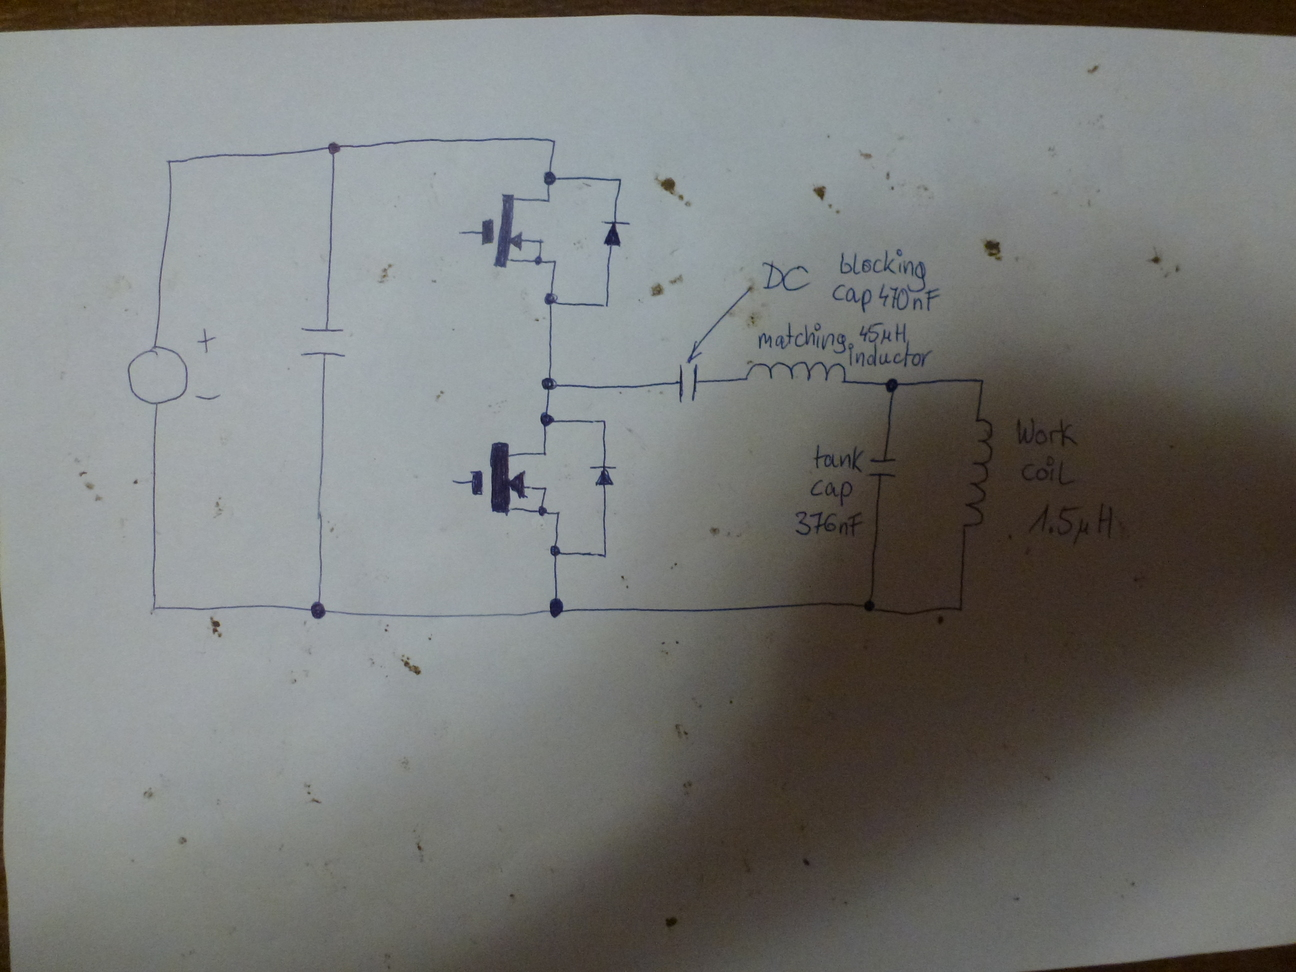capacitor.unpolarized: (295, 323, 349, 364), (676, 356, 702, 404), (862, 450, 902, 482)
diode: (599, 218, 628, 250), (590, 461, 619, 489)
inductor: (963, 410, 994, 537), (741, 358, 848, 385)
junction: (545, 596, 567, 621), (881, 374, 901, 397), (308, 599, 330, 621), (539, 374, 558, 393), (325, 139, 344, 157), (537, 409, 555, 429), (542, 290, 559, 310), (146, 599, 164, 618), (860, 596, 878, 614), (541, 169, 557, 188), (547, 542, 563, 558), (596, 414, 612, 427), (162, 155, 177, 169), (598, 547, 611, 561), (599, 298, 612, 311), (975, 374, 988, 387), (547, 135, 559, 147), (953, 602, 966, 614), (613, 174, 625, 185)
terminal: (453, 226, 466, 239), (448, 475, 459, 488)
text: (1023, 499, 1123, 547), (837, 245, 929, 293), (831, 282, 941, 315), (754, 320, 847, 355), (844, 338, 931, 370), (1012, 414, 1081, 450), (791, 507, 865, 539), (1017, 454, 1077, 488), (760, 259, 812, 295), (809, 444, 861, 473), (806, 475, 854, 503), (858, 320, 909, 346)
transistor: (467, 439, 564, 520), (479, 192, 559, 270)
voltage.dc: (122, 342, 191, 408)
